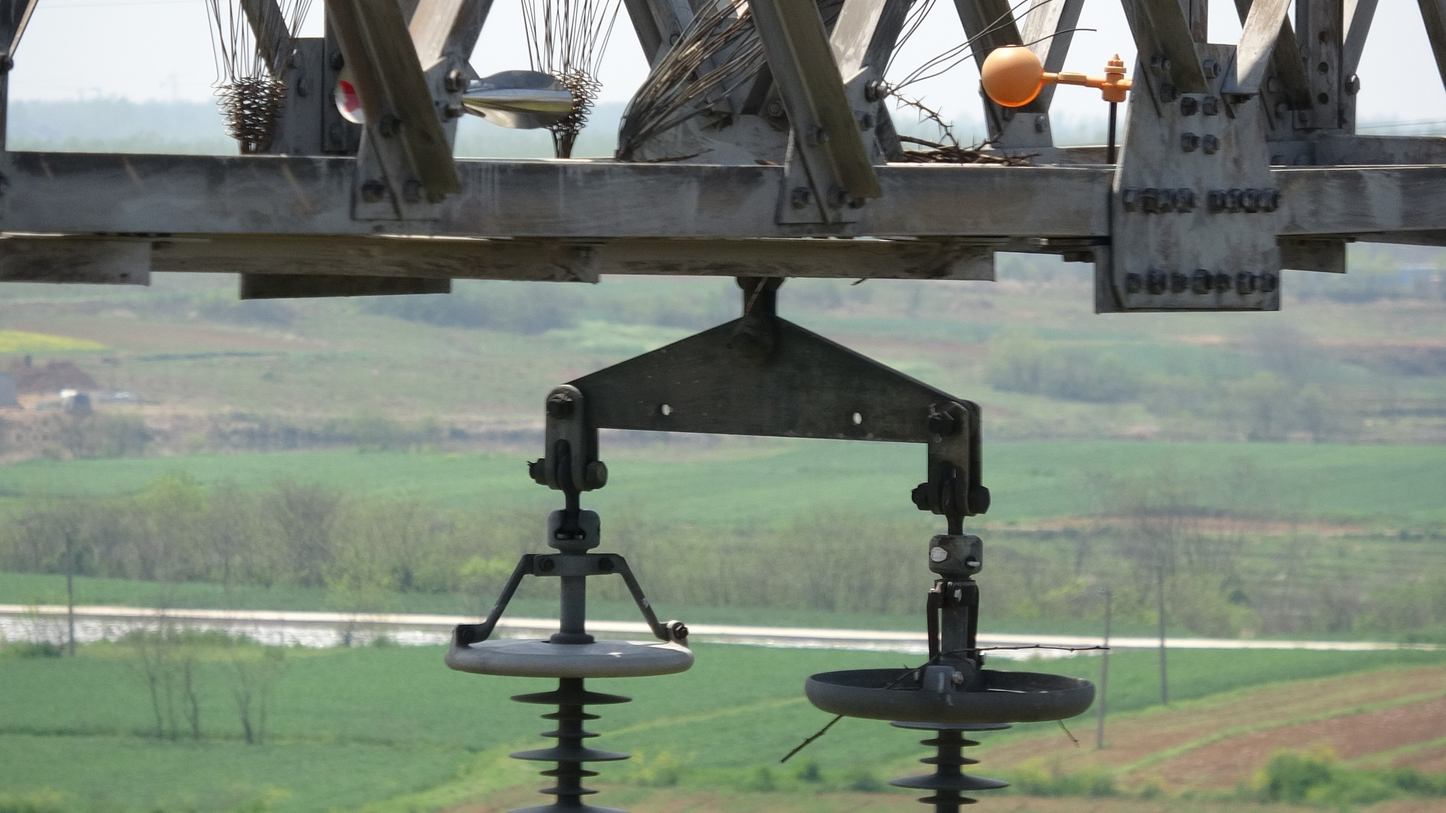insulator: (503, 679, 639, 813), (883, 712, 1014, 813)
